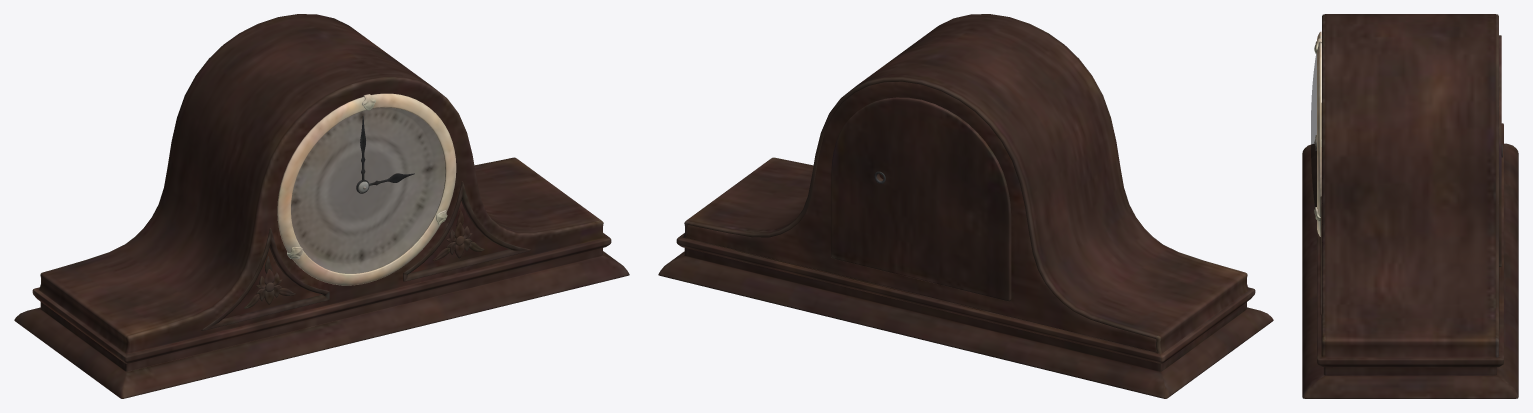
Rendered from mantel_clock_01_1k.gltf.
3 views of the same model, side by side, from view 1: azimuth 30°, elevation 25°; view 2: azimuth 150°, elevation 25°; view 3: azimuth 270°, elevation 25° (orthographic).
Visible parts, largest first — view 1: mantel_clock_01, mantel_clock_01_glass; view 2: mantel_clock_01; view 3: mantel_clock_01, mantel_clock_01_glass.
Boxes of the visible parts, x1,y1,x2,y2 form: mantel_clock_01: (14, 14, 629, 398); mantel_clock_01_glass: (291, 107, 445, 273); mantel_clock_01: (658, 14, 1273, 398); mantel_clock_01: (1302, 14, 1518, 398); mantel_clock_01_glass: (1311, 53, 1316, 207).
Size of the model in its own units: 0.3423 by 0.1605 by 0.1262.
2 materials, 2 textured.
